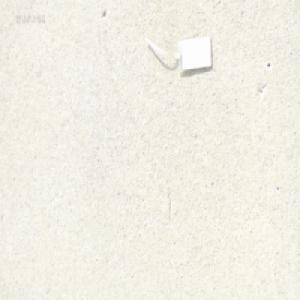LuggageTag: (141, 29, 214, 74)
